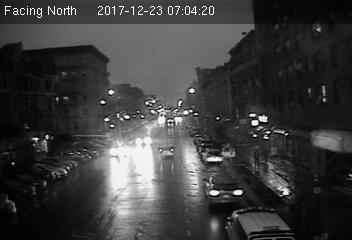car: (202, 172, 243, 205), (201, 148, 223, 165), (156, 142, 176, 158)
police: (225, 201, 298, 240)
